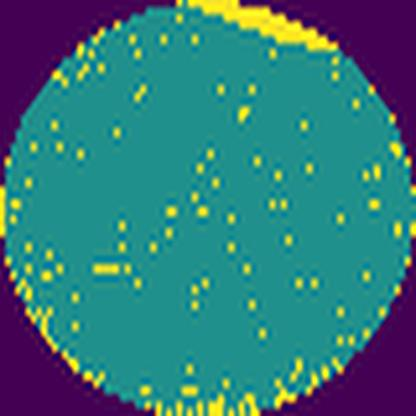Edge-Loc: (171, 0, 338, 58)
